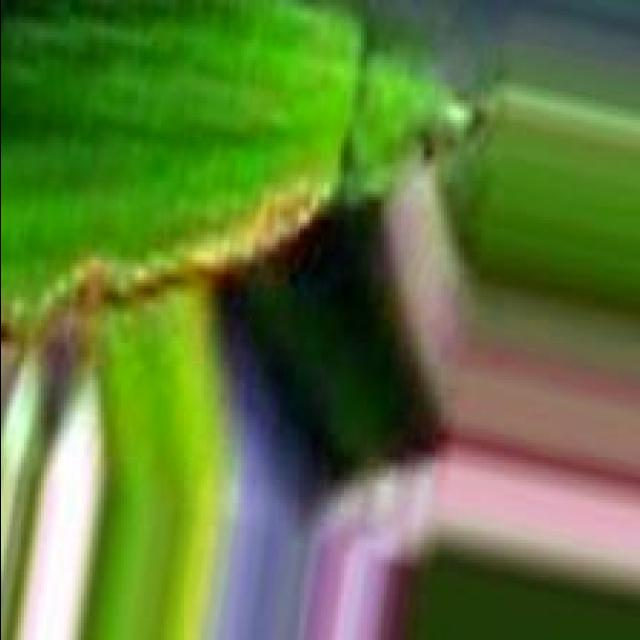Unhealthy: (0, 186, 334, 348)
